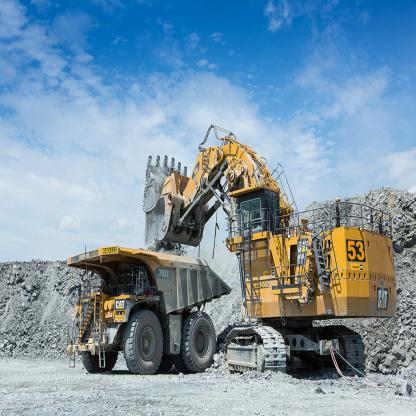dump_truck: (55, 247, 230, 387)
